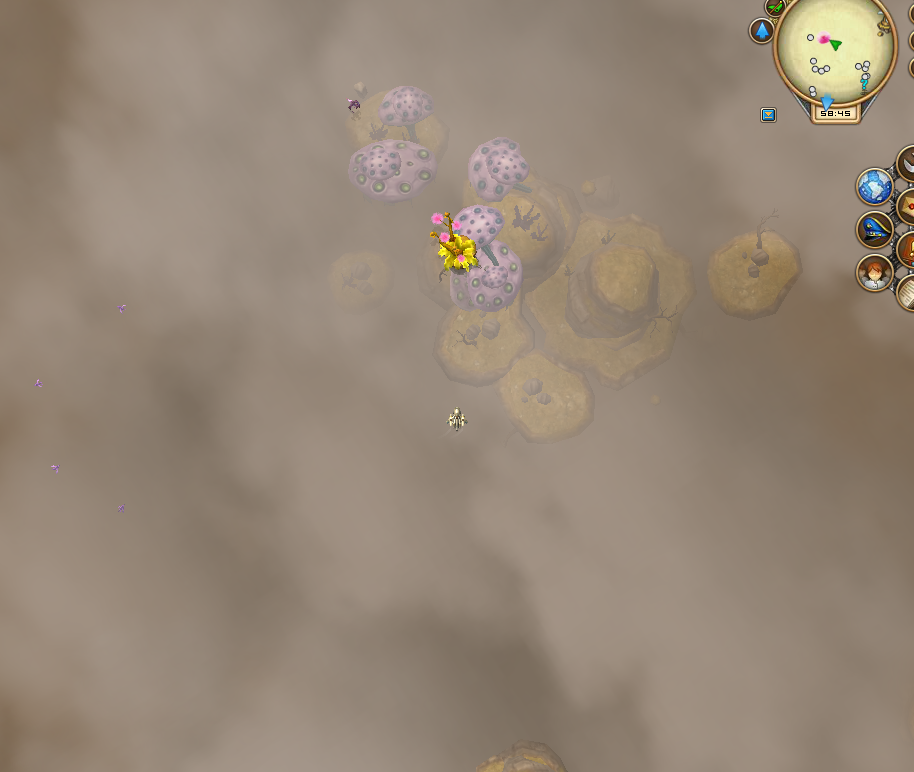dandelion-full: (422, 204, 486, 287)
